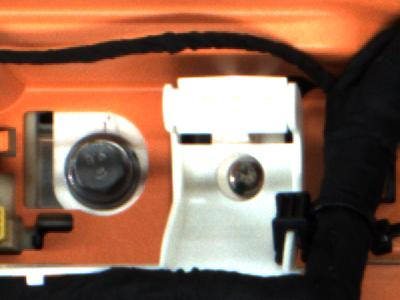nut_b: (61, 129, 142, 214)
